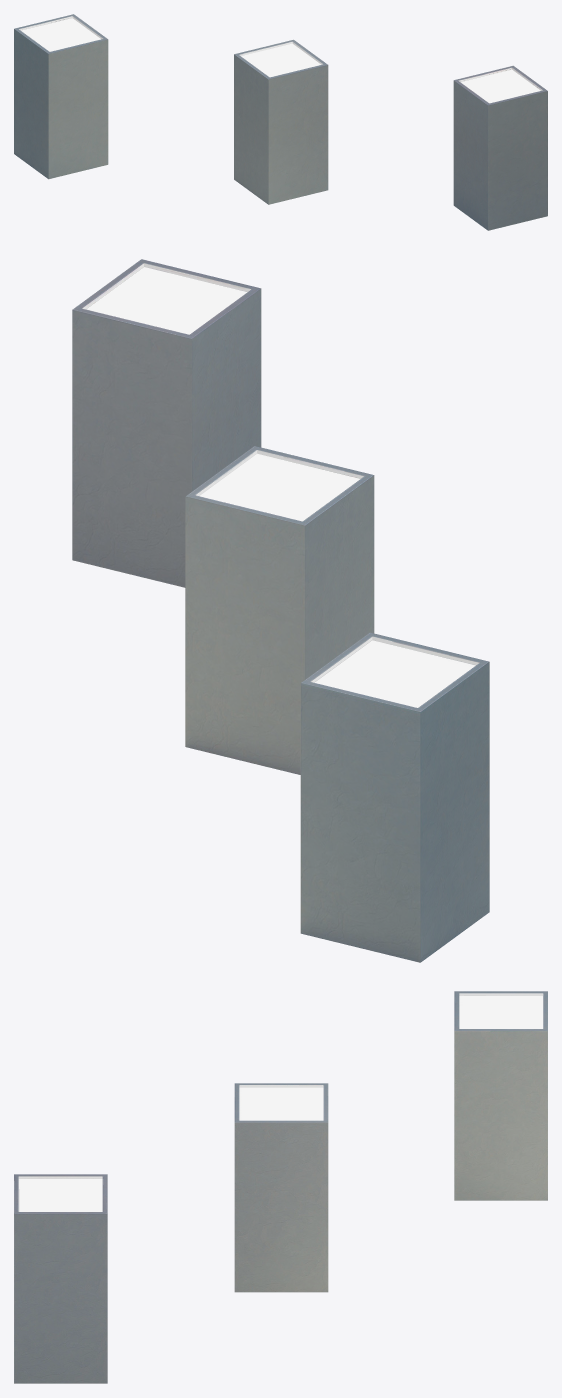
The model's file is Statue Place.glb.
3 renders of one model, top to bottom at view 1: azimuth 30°, elevation 25°; view 2: azimuth 150°, elevation 25°; view 3: azimuth 270°, elevation 25°, orthographic. The views are drawn at different scales.
Parts seen in each view (by area): view 1: Statue Place_Export; view 2: Statue Place_Export; view 3: Statue Place_Export.
Boxes of the visible parts, x1,y1,x2,y2 form: Statue Place_Export: (14, 14, 547, 230); Statue Place_Export: (72, 259, 489, 962); Statue Place_Export: (14, 991, 547, 1383).
Size of the model in its own units: 3.38 by 1.2 by 3.42.
Materials: 1 (1 with a texture image).
